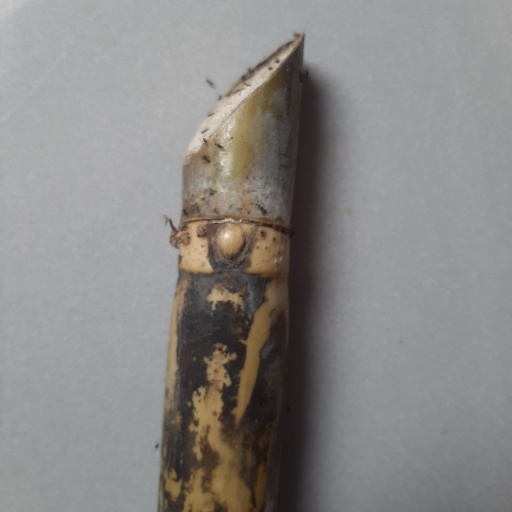Bud: (216, 221, 246, 263)
